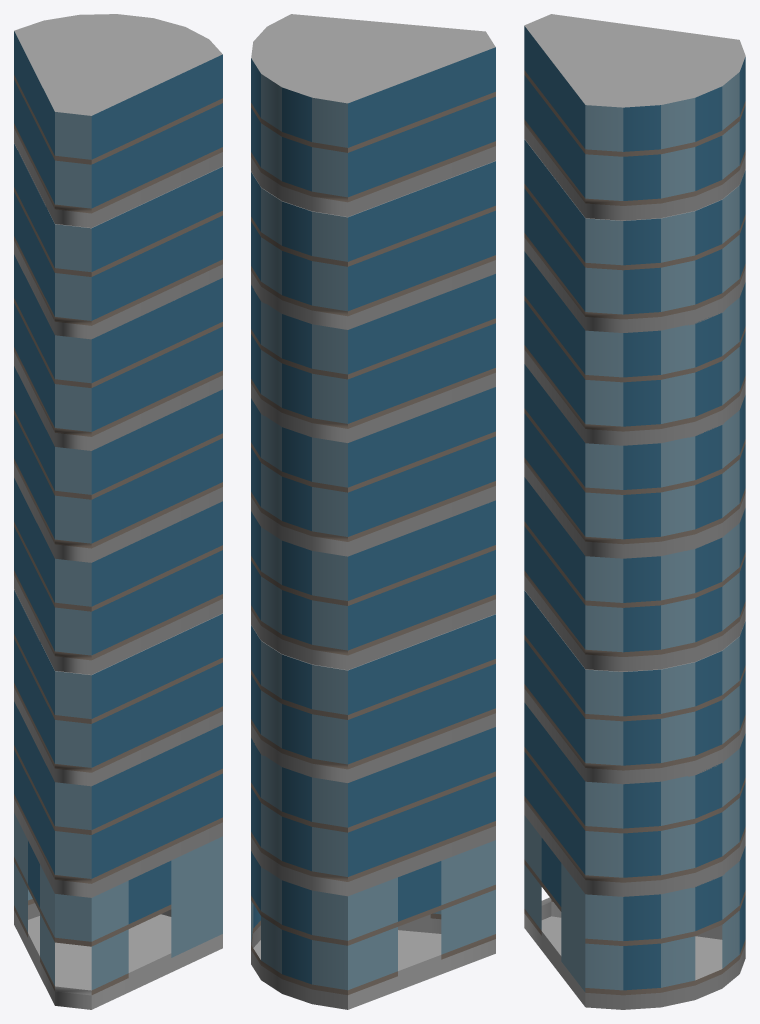
Rendered from fox.fbx.
The picture shows the model from 3 angles, left to right: view 1: azimuth 30°, elevation 25°; view 2: azimuth 150°, elevation 25°; view 3: azimuth 270°, elevation 25°; orthographic projection.
Parts seen in each view (by area): view 1: pCylinder9; view 2: pCylinder9; view 3: pCylinder9.
Part boxes in pixels (x1,y1,x2,y2): pCylinder9: [14, 14, 222, 1009]; pCylinder9: [251, 14, 495, 1009]; pCylinder9: [524, 14, 745, 1009].
Size of the model in its own units: 10.2 by 45.83 by 10.2.
